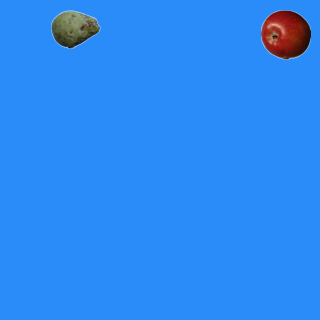Apple Braeburn: (260, 9, 310, 59)
Pear Stone: (50, 4, 100, 54)
